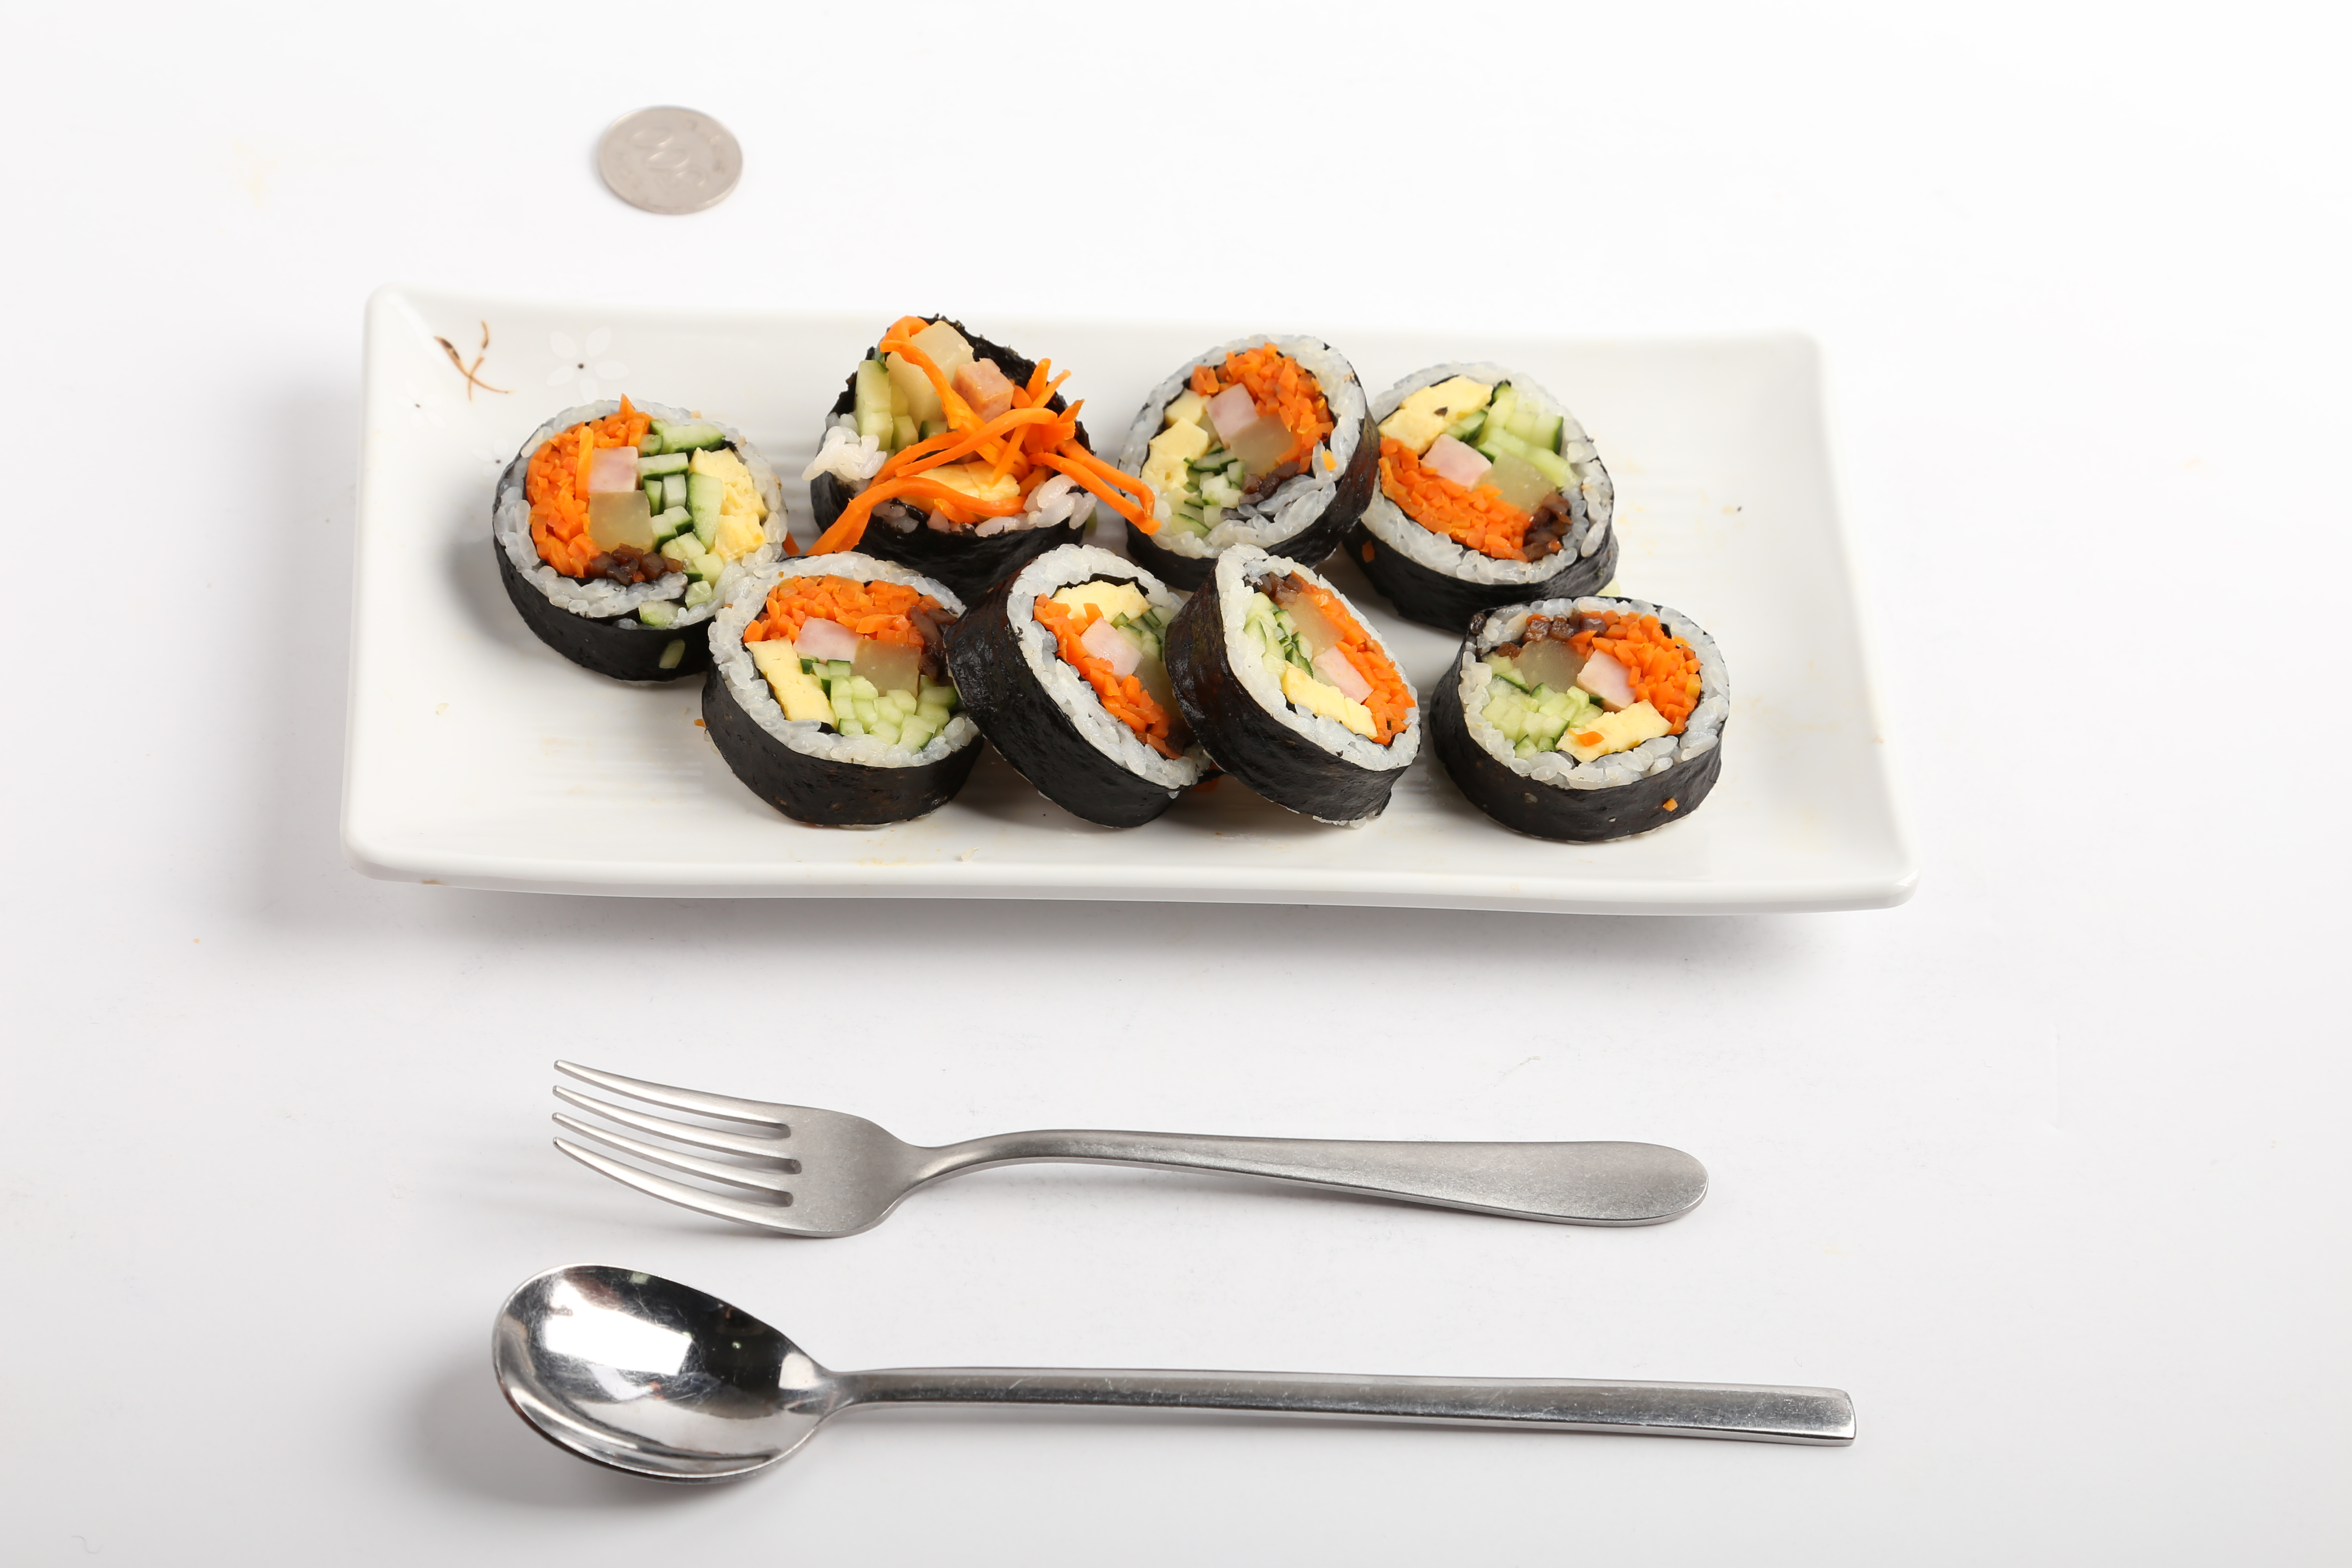dish: (336, 283, 1916, 924)
ref_coin: (588, 89, 754, 220)
ref_fork: (546, 1048, 962, 1242)
ref_spoon: (488, 1260, 912, 1487)
김밥: (483, 317, 1736, 849)
